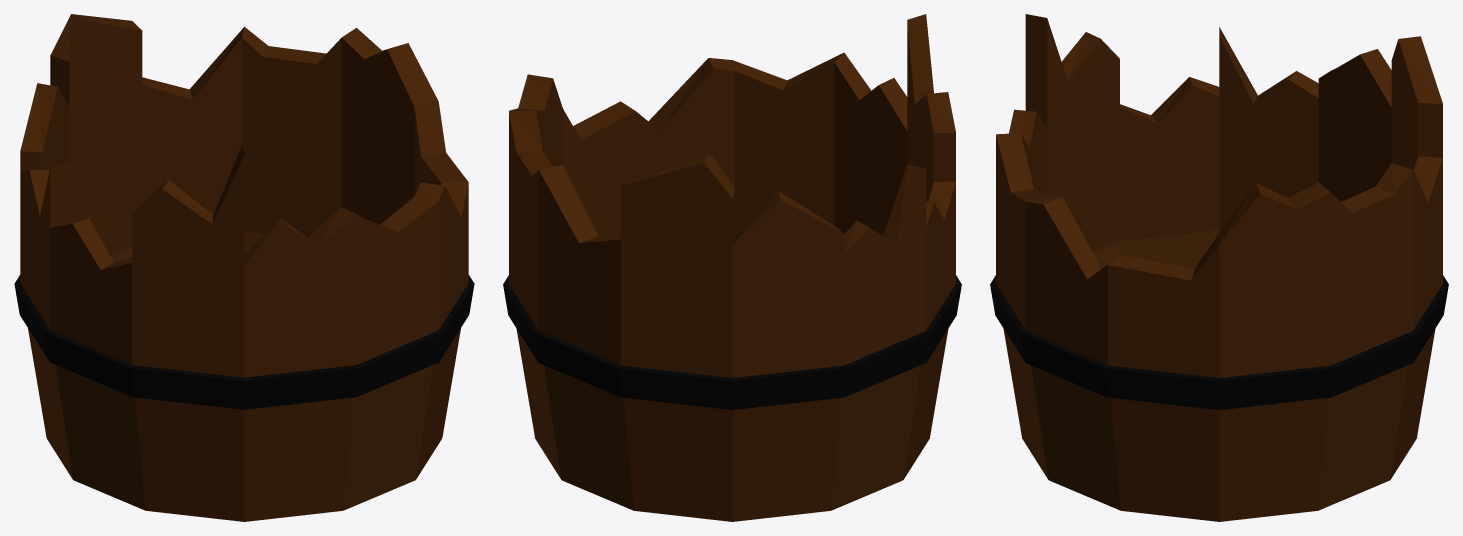
The model's file is Barrel Broken.FBX.
3 renders of one model, left to right at view 1: azimuth 30°, elevation 25°; view 2: azimuth 150°, elevation 25°; view 3: azimuth 270°, elevation 25°, orthographic.
Visible parts, largest first — view 1: Object001; view 2: Object001; view 3: Object001.
Boxes of the visible parts, left/top/right/bottom form: Object001: left=14, top=14, right=474, bottom=521; Object001: left=503, top=14, right=961, bottom=521; Object001: left=990, top=14, right=1448, bottom=521.
Size of the model in its own units: 23.46 by 21.29 by 23.46.
